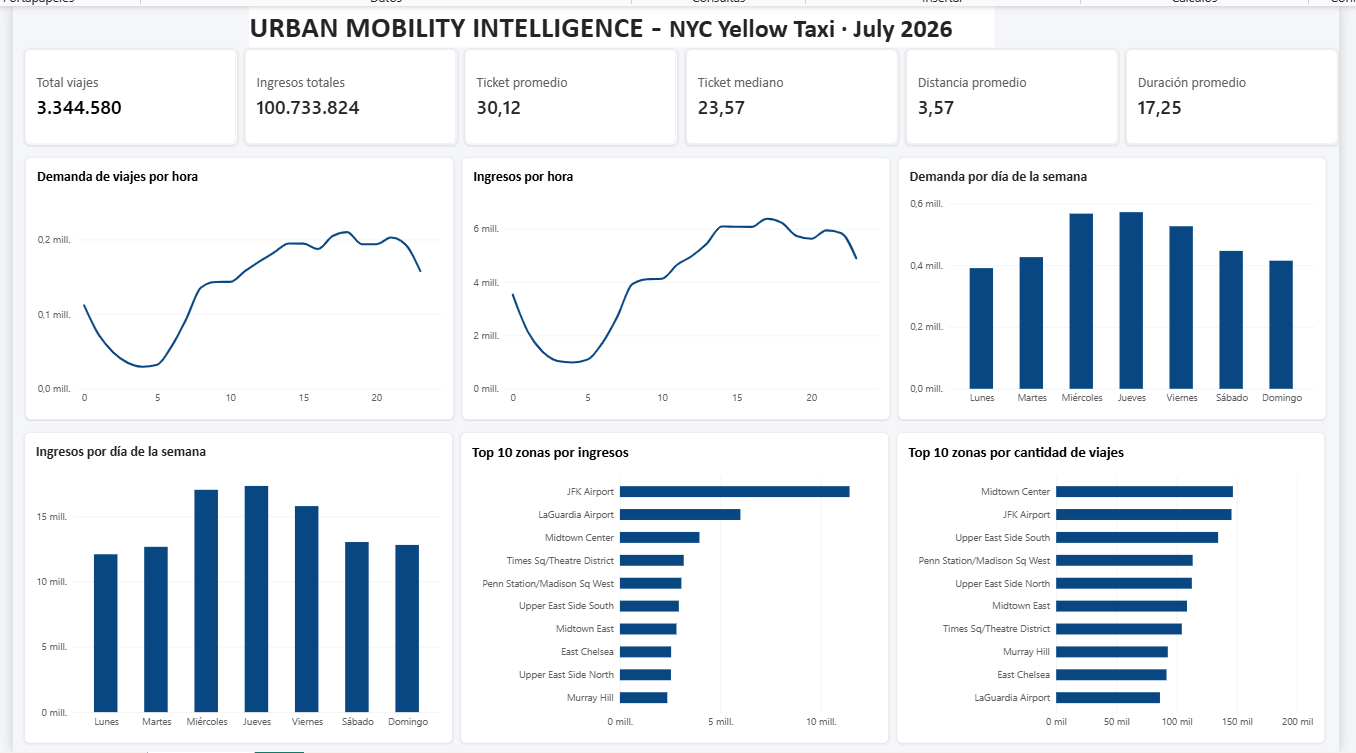

What the dashboard file says about the page in this screenshot:
{"tool":"powerbi","page":{"name":"Página 1","canvas":[1920,1080],"ordinal":0},"visuals":[{"type":"cardVisual","fields":{"Data":["Sum(kpis_generales.total_viajes)"]},"box":[16.3,61.5,308.7,140],"z":0},{"type":"cardVisual","fields":{"Data":["Sum(kpis_generales.ingresos_totales)"]},"box":[335.1,61.5,308.7,140],"z":1000},{"type":"cardVisual","fields":{"Data":["Sum(kpis_generales.importe_promedio)"]},"box":[654,61.5,308.7,140],"z":2000},{"type":"cardVisual","fields":{"Data":["Sum(kpis_generales.importe_mediano)"]},"box":[972.9,61.5,308.7,140],"z":3000},{"type":"cardVisual","fields":{"Data":["Sum(kpis_generales.distancia_promedio)"]},"box":[1291.7,61.5,308.7,140],"z":4000},{"type":"cardVisual","fields":{"Data":["Sum(kpis_generales.duracion_promedio)"]},"box":[1610.6,61.5,308.7,140],"z":5000},{"type":"lineChart","title":"Demanda de viajes por hora","fields":{"Category":["resumen_hora.hora"],"Y":["Sum(resumen_hora.cantidad_viajes)"]},"box":[18.1,219,620,380],"z":6000},{"type":"lineChart","title":"Ingresos por hora","fields":{"Category":["resumen_hora.hora"],"Y":["Sum(resumen_hora.ingresos_totales)"]},"box":[649.7,219,620,380],"z":7000},{"type":"clusteredColumnChart","title":"Demanda por día de la semana","fields":{"Category":["resumen_dia_semana.dia_espanol"],"Y":["Sum(resumen_dia_semana.cantidad_viajes)"]},"box":[1281.2,219,620,380],"z":8000},{"type":"clusteredColumnChart","title":"Ingresos por día de la semana","fields":{"Category":["resumen_dia_semana.dia_espanol"],"Y":["Sum(resumen_dia_semana.ingresos_totales)"]},"box":[16.3,617.1,620,450],"z":9000},{"type":"clusteredBarChart","title":"Top 10 zonas por cantidad de viajes","fields":{"Category":["resumen_zona_origen.zona"],"Y":["Sum(resumen_zona_origen.cantidad_viajes)"]},"box":[1279.4,617.1,620,450],"z":10000},{"type":"clusteredBarChart","title":"Top 10 zonas por ingresos","fields":{"Category":["resumen_zona_origen.zona"],"Y":["Sum(resumen_zona_origen.ingresos_totales)"]},"box":[647.9,617.1,620,450],"z":11000},{"type":"textbox","box":[341.7,0,1078.6,59.7],"z":12000}]}

Visuals, with their boxes on the page's 1920x1080 design canvas (x1, y1, x2, y2). These are canvas units, not pixel positions in the 1356x753 screenshot, which may show the page scaled, cropped or inside an application window:
cardVisual - Sum(kpis_generales.total_viajes): x1=16 y1=62 x2=325 y2=202
cardVisual - Sum(kpis_generales.ingresos_totales): x1=335 y1=62 x2=644 y2=202
cardVisual - Sum(kpis_generales.importe_promedio): x1=654 y1=62 x2=963 y2=202
cardVisual - Sum(kpis_generales.importe_mediano): x1=973 y1=62 x2=1282 y2=202
cardVisual - Sum(kpis_generales.distancia_promedio): x1=1292 y1=62 x2=1600 y2=202
cardVisual - Sum(kpis_generales.duracion_promedio): x1=1611 y1=62 x2=1919 y2=202
"Demanda de viajes por hora" lineChart: x1=18 y1=219 x2=638 y2=599
"Ingresos por hora" lineChart: x1=650 y1=219 x2=1270 y2=599
"Demanda por día de la semana" clusteredColumnChart: x1=1281 y1=219 x2=1901 y2=599
"Ingresos por día de la semana" clusteredColumnChart: x1=16 y1=617 x2=636 y2=1067
"Top 10 zonas por cantidad de viajes" clusteredBarChart: x1=1279 y1=617 x2=1899 y2=1067
"Top 10 zonas por ingresos" clusteredBarChart: x1=648 y1=617 x2=1268 y2=1067
textbox: x1=342 y1=0 x2=1420 y2=60
